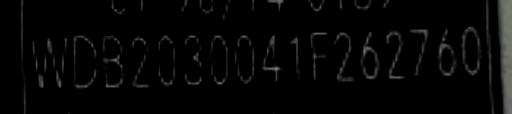letter: (23, 31, 69, 91), (96, 31, 128, 91), (456, 23, 486, 80), (230, 31, 260, 88), (328, 28, 356, 88), (70, 31, 98, 91), (126, 31, 154, 91), (152, 31, 180, 91), (404, 26, 432, 83), (307, 26, 333, 86), (204, 28, 230, 88), (178, 31, 204, 91), (430, 26, 458, 80), (258, 31, 286, 85), (357, 26, 383, 83), (383, 26, 409, 83), (284, 31, 306, 85)
